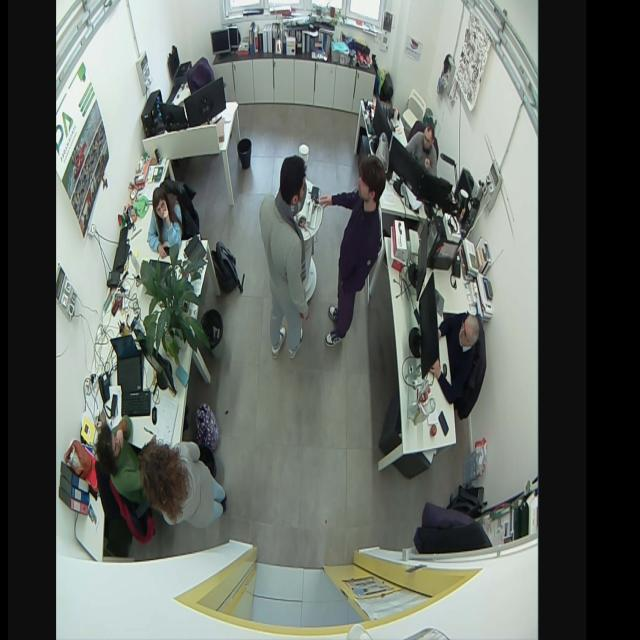Persona: (319, 148, 388, 350), (257, 152, 313, 361), (138, 432, 227, 534), (435, 304, 482, 408), (96, 408, 140, 501), (146, 184, 183, 276), (403, 122, 441, 180)
